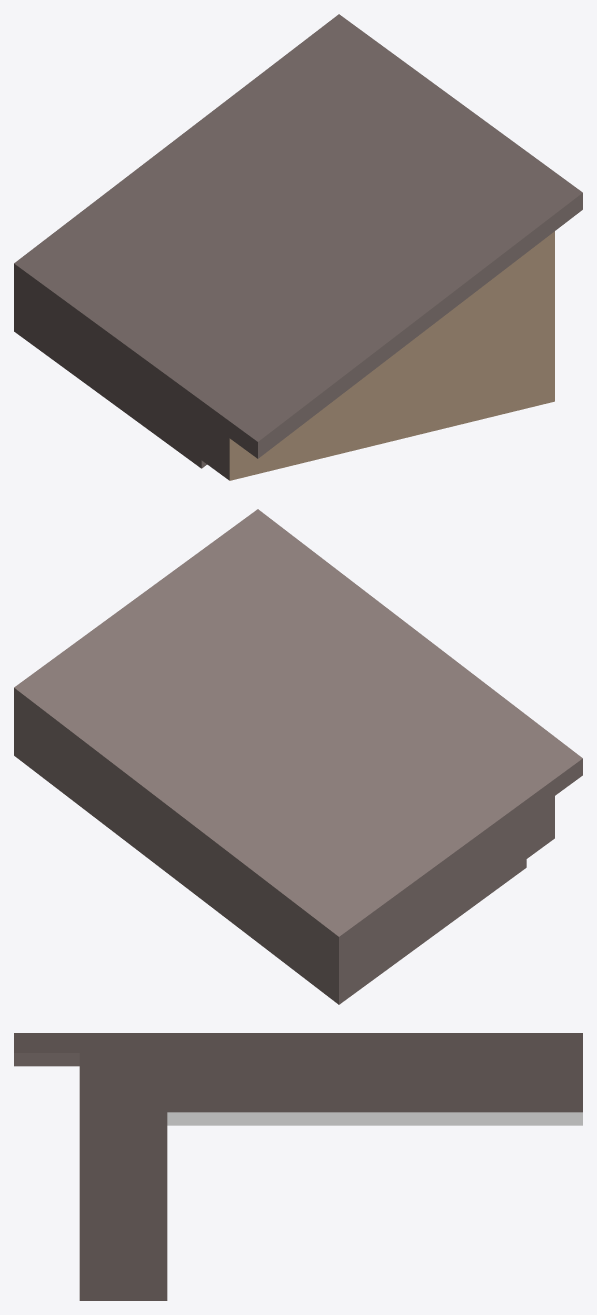
File: Structure_Roof_Edge_Half.obj
3 renders of one model, top to bottom at view 1: azimuth 30°, elevation 25°; view 2: azimuth 150°, elevation 25°; view 3: azimuth 270°, elevation 25°, orthographic. The views are drawn at different scales.
Visible parts, largest first — view 1: object1; view 2: object1; view 3: object1.
Boxes of the visible parts, x1,y1,x2,y2 form: object1: [14, 14, 582, 480]; object1: [14, 509, 582, 1004]; object1: [14, 1033, 582, 1300].
Size of the model in its own units: 1 by 0.7 by 1.3.
